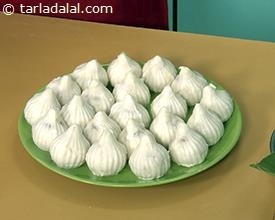modak: (47, 126, 91, 168), (128, 138, 170, 177), (170, 126, 212, 165), (91, 137, 130, 176), (78, 79, 118, 113), (36, 108, 68, 150), (154, 110, 193, 142), (185, 109, 225, 139), (150, 88, 192, 115), (124, 72, 157, 103), (201, 85, 236, 114), (112, 96, 147, 125), (62, 93, 93, 125)
